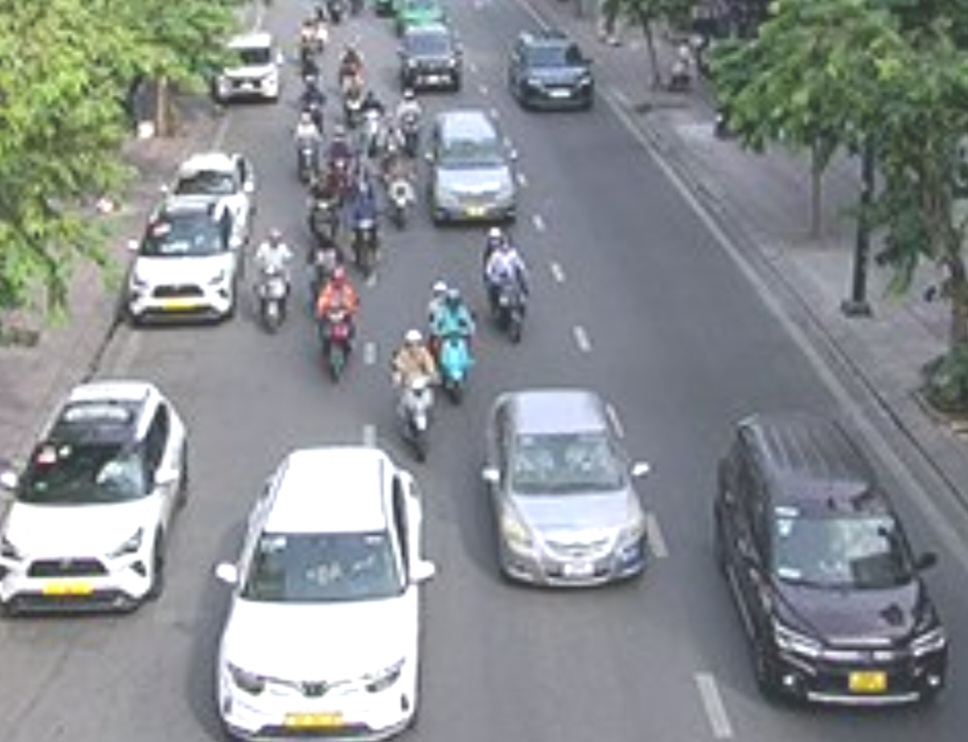car: (715, 416, 951, 711), (217, 436, 424, 738), (1, 370, 187, 627), (483, 385, 654, 597), (125, 200, 248, 328), (425, 111, 518, 230), (509, 28, 596, 115), (214, 34, 284, 103), (398, 25, 463, 94)
